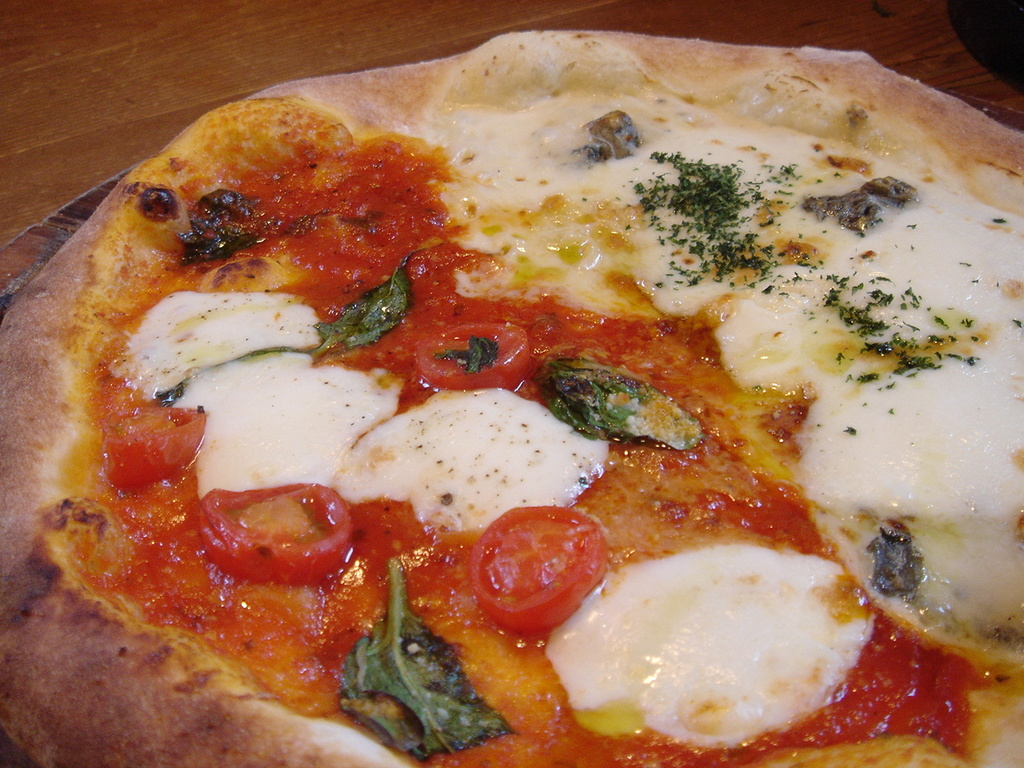Pizza: (0, 14, 1023, 767)
